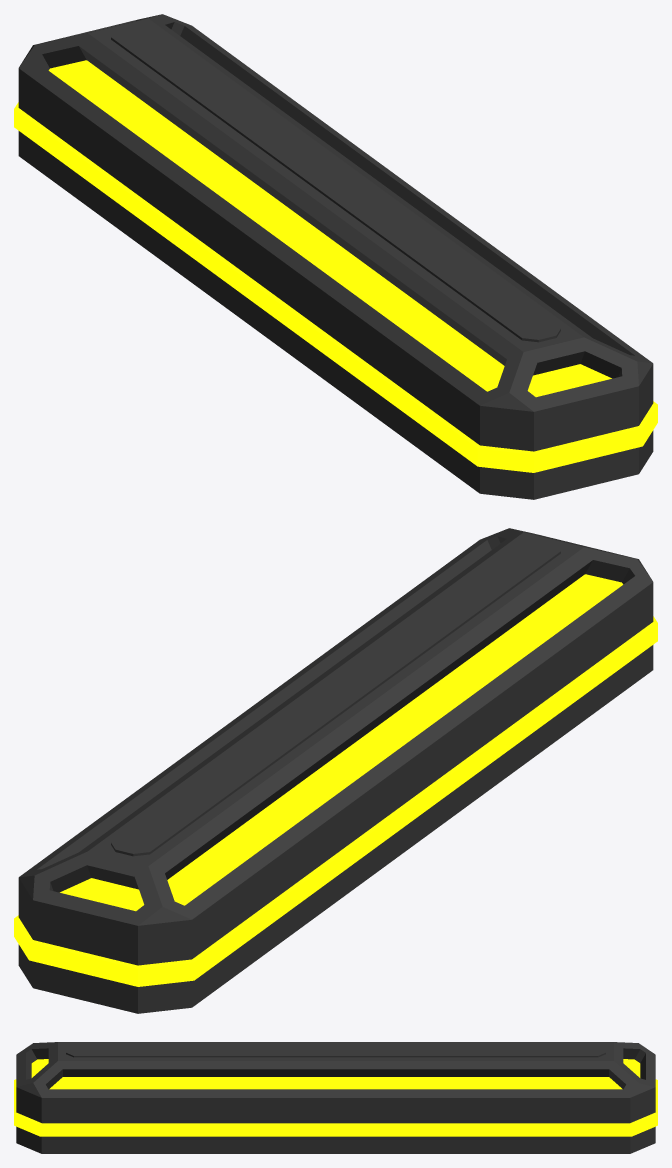
Rendered from Wall_1x5.fbx.
3 views of the same model, one above another, from view 1: azimuth 30°, elevation 25°; view 2: azimuth 150°, elevation 25°; view 3: azimuth 270°, elevation 25° (orthographic). The views are drawn at different scales.
Parts seen in each view (by area): view 1: Cube; view 2: Cube; view 3: Cube.
Part boxes in pixels (x1,y1,x2,y2): Cube: [14, 14, 657, 499]; Cube: [14, 528, 657, 1013]; Cube: [14, 1042, 657, 1153].
Size of the model in its own units: 208 by 133 by 1008.
